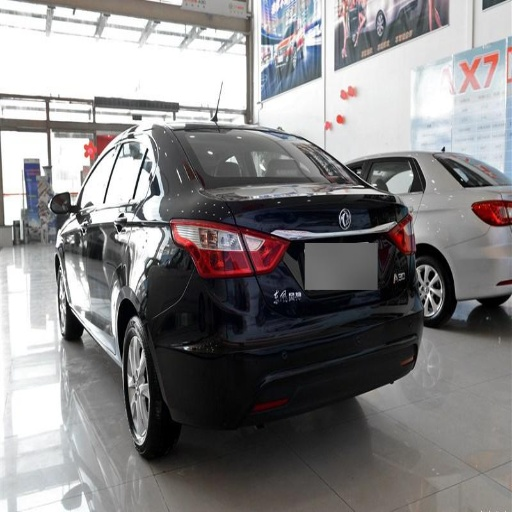back_bumper: (154, 252, 420, 424), (449, 223, 511, 301)
back_glass: (167, 127, 358, 187), (440, 159, 511, 185)
back_left_door: (96, 140, 145, 334)
tailgate: (208, 180, 389, 314)
trunk: (321, 260, 386, 325)
